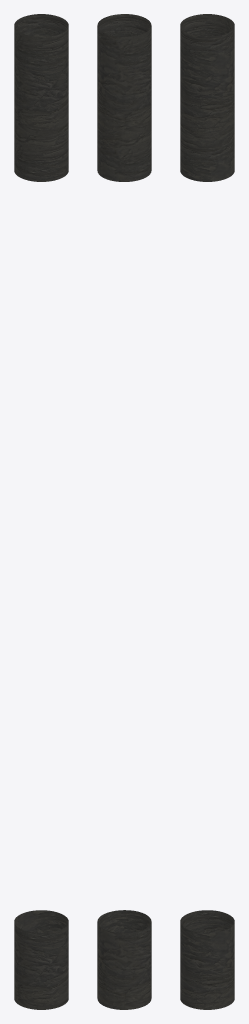
The model's file is suidao_16.glb.
3 renders of one model, left to right at view 1: azimuth 90°, elevation 25°; view 2: azimuth 150°, elevation 25°; view 3: azimuth 270°, elevation 25°, orthographic.
Visible parts, largest first — view 1: XSBYSZK_01; view 2: XSBYSZK_01; view 3: XSBYSZK_01.
Part boxes in pixels (x1,y1,x2,y2): XSBYSZK_01: (14, 14, 68, 1009); XSBYSZK_01: (97, 14, 151, 1009); XSBYSZK_01: (180, 14, 234, 1009).
Bounding box in the file's own units: 7.54 × 149 × 7.6.
1 material, 1 textured.
